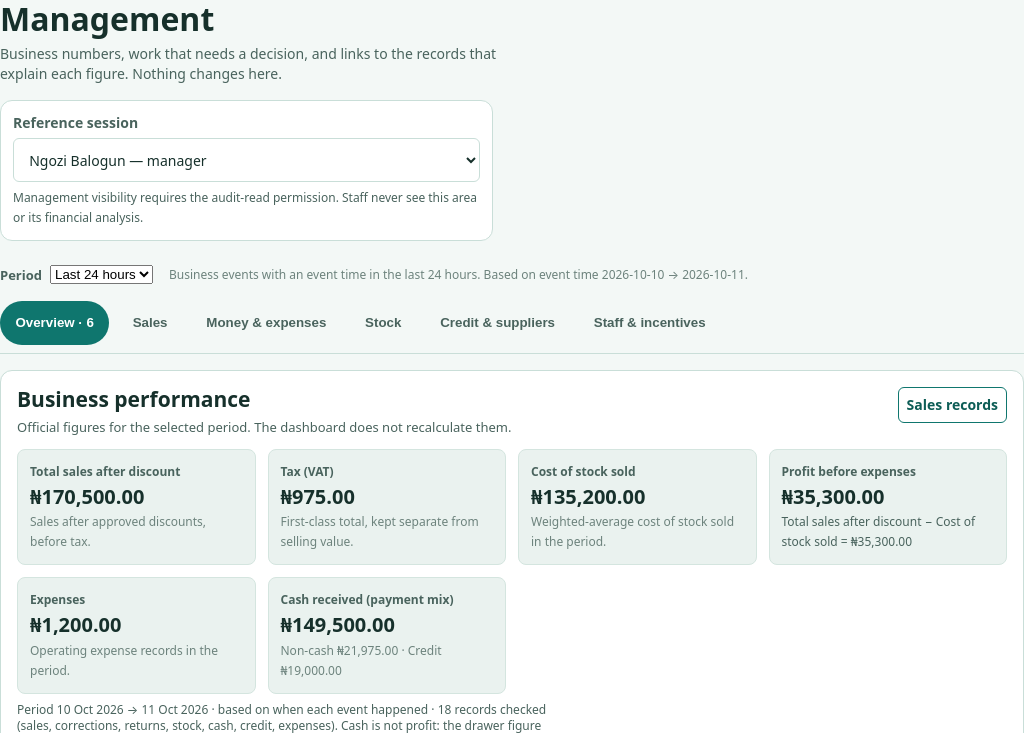
Test: management dashboard › changes the canonical figures when the reporting period changes
The width and height of the screenshot is (1024, 733).
Select "Last 7 days" in the dropdown labelled "Period": (102,275) [50,265,153,284]
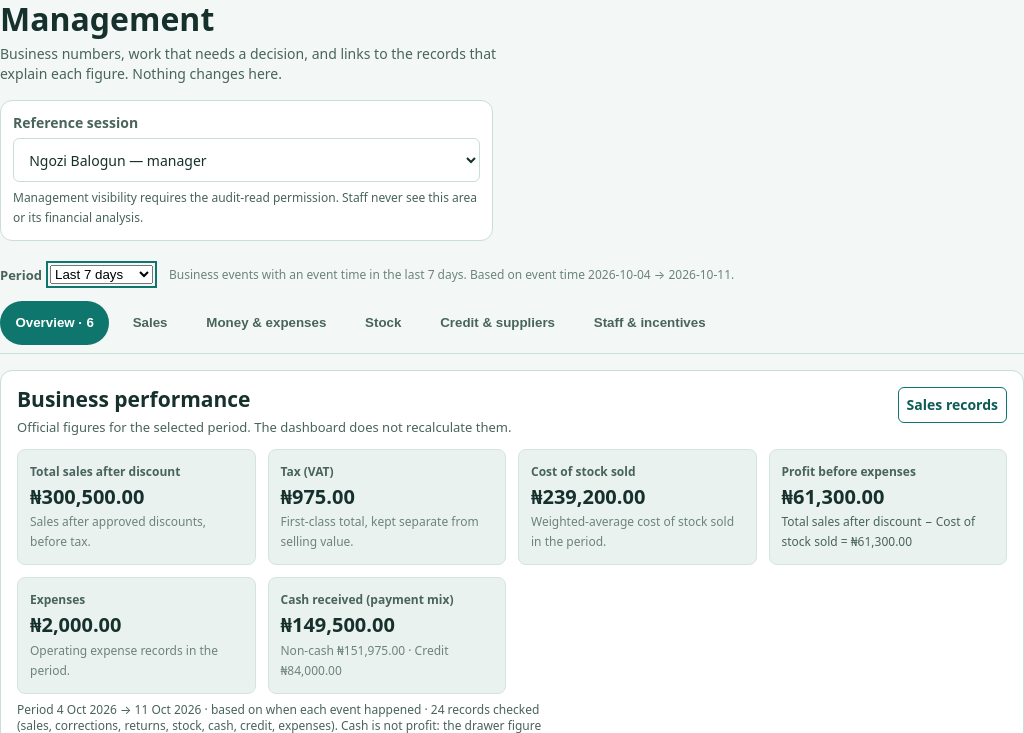
Result: the text "₦300,500.00" is shown at [30,483,144,510]
Result: the text "₦61,300.00" is shown at [782,483,884,510]
Click the tab "Staff & incentives": (650,323) [578,301,721,345]
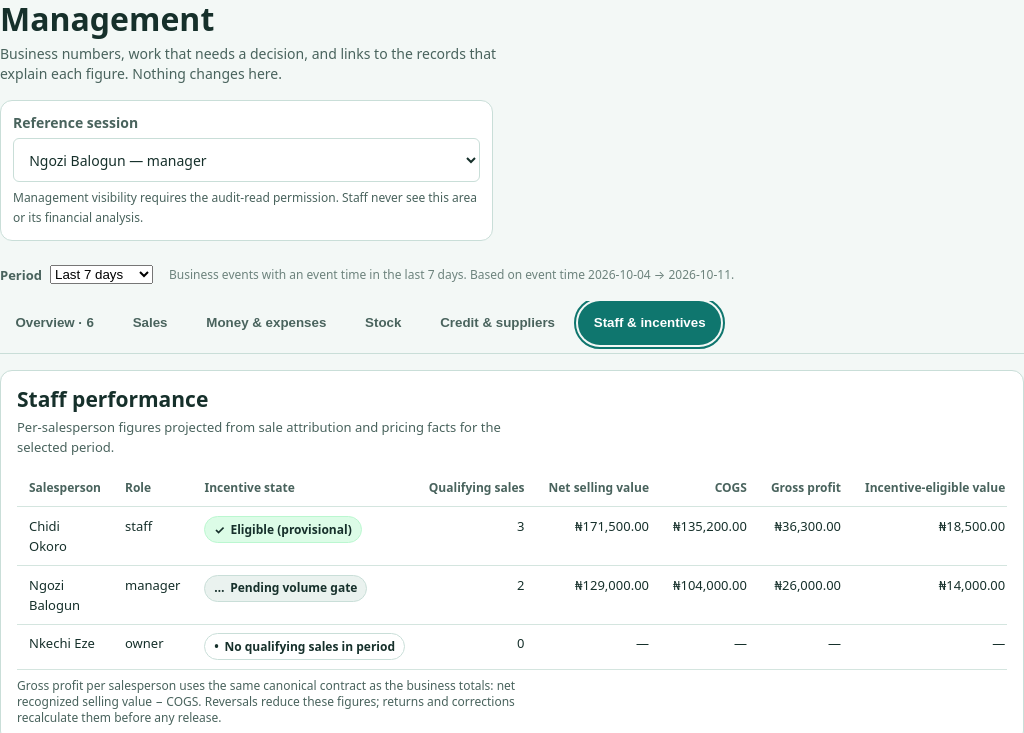
Result: the text "Pending volume gate" is shown at [230,579,357,596]
Select "Last 30 days" in the dropdown labelled "Period": (102,275) [50,265,153,284]
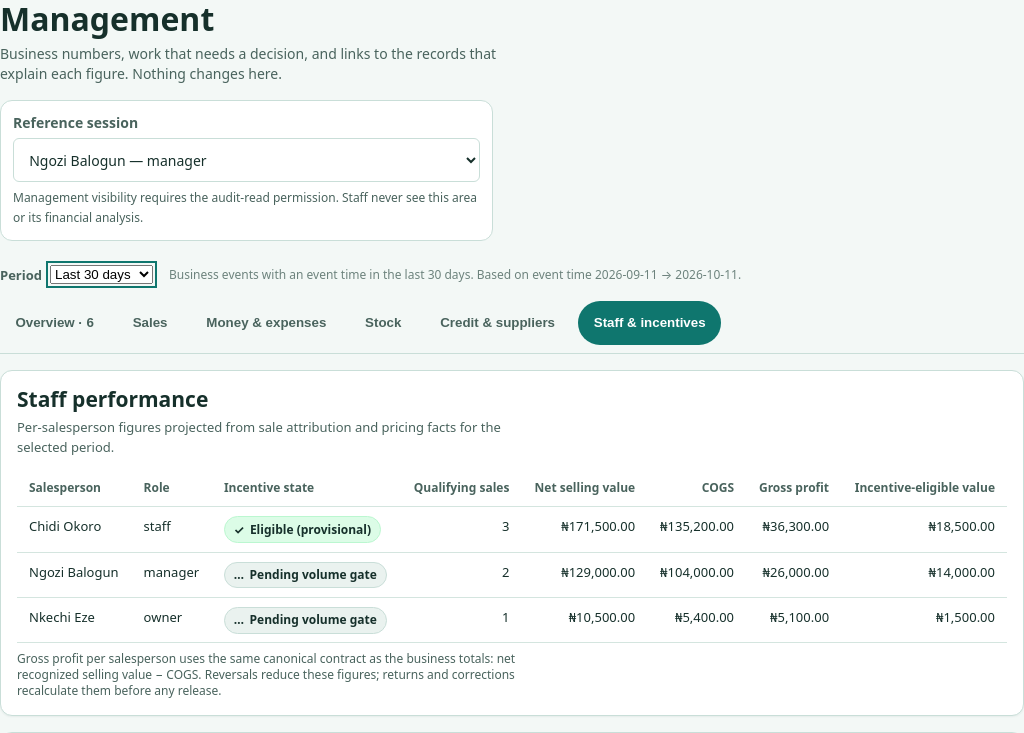
Click the tab "Overview · 6": (55,323) [0,301,109,345]
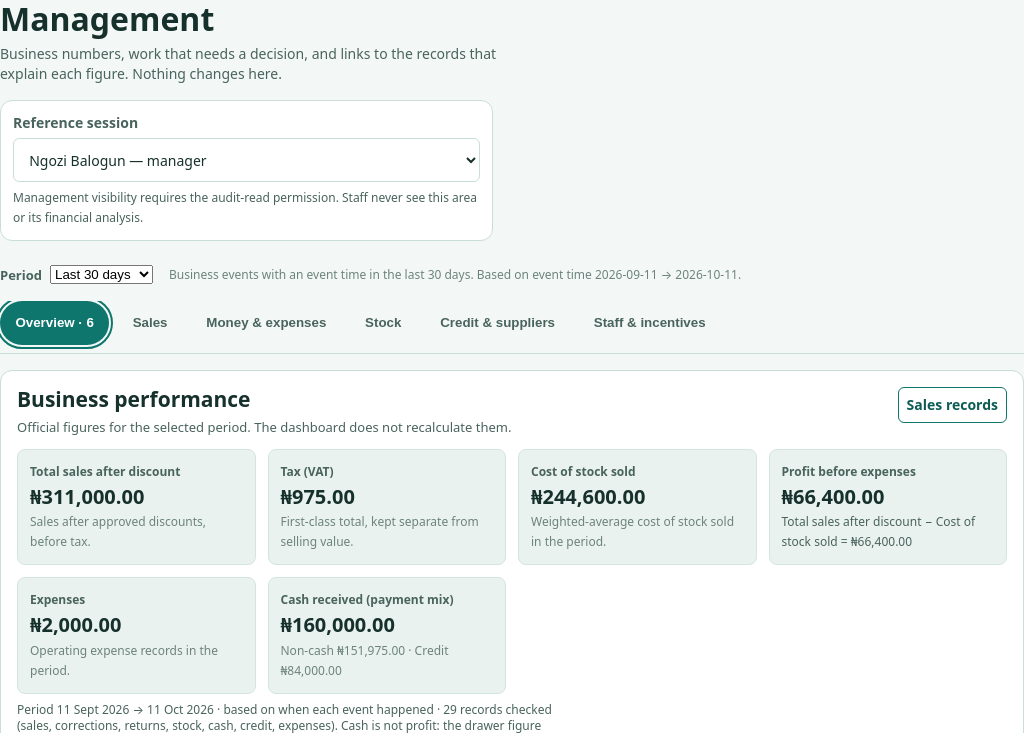
Result: the text "₦311,000.00" is shown at [30,483,144,510]
Result: the text "₦66,400.00" is shown at [782,483,884,510]
